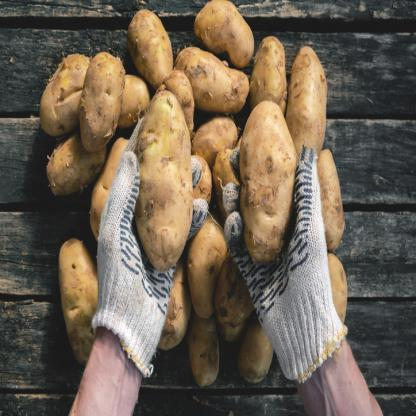potato: (130, 78, 208, 291), (233, 88, 304, 268), (54, 229, 113, 366), (176, 30, 258, 122), (289, 28, 335, 181), (62, 50, 128, 148), (40, 131, 116, 205), (39, 50, 97, 133), (256, 22, 295, 127), (192, 0, 254, 65), (132, 10, 176, 88)
